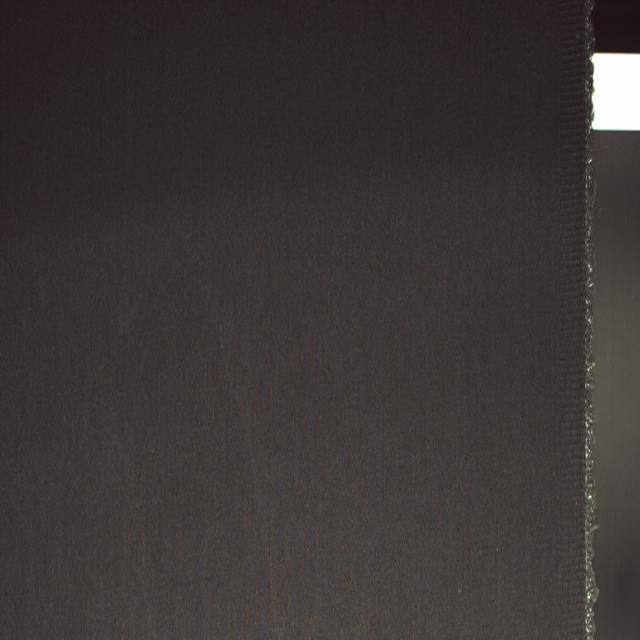Stain: (108, 245, 285, 640)
